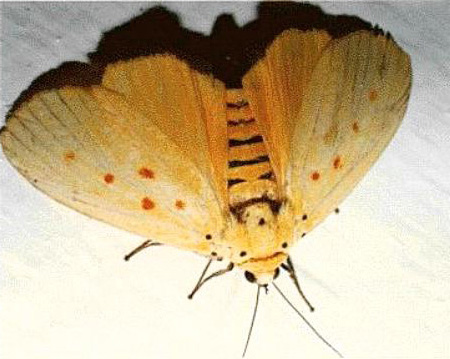Agape chloropyga: (2, 29, 416, 358)
moth: (1, 27, 414, 356)
